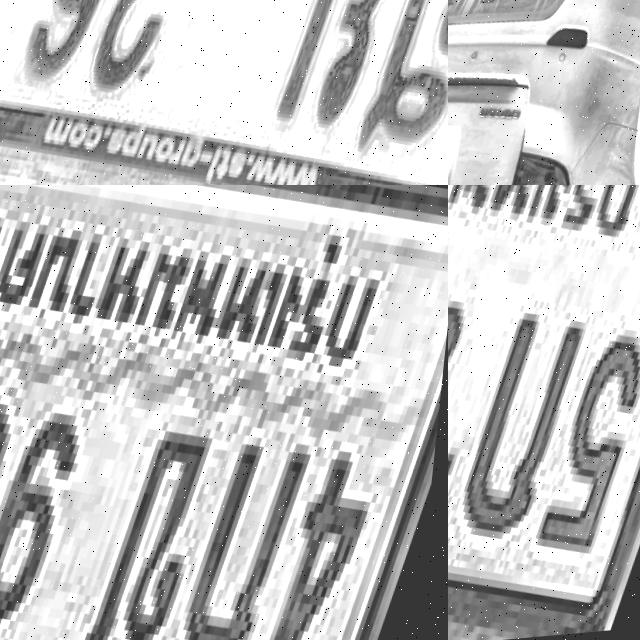license-plate: (0, 185, 448, 640), (448, 185, 640, 640), (0, 0, 448, 185)
